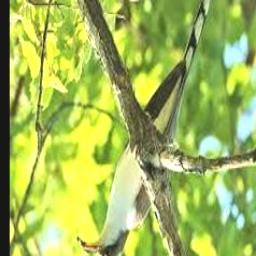Cuckoo: (81, 0, 212, 256)
